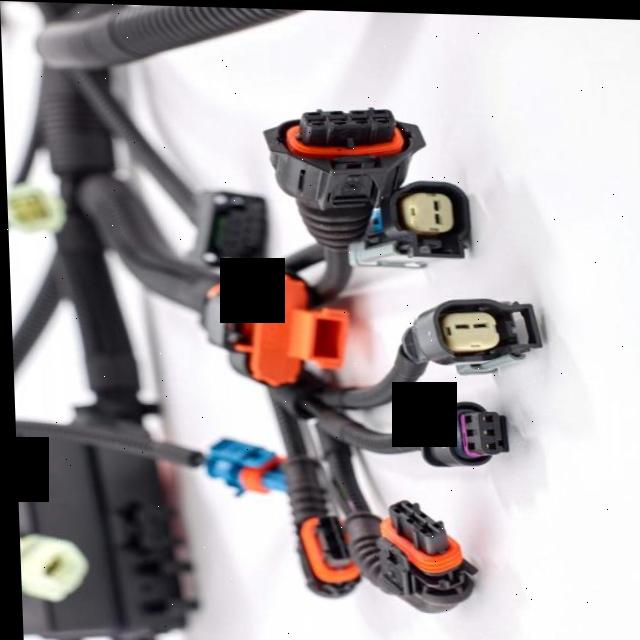connector: (200, 264, 350, 384), (264, 105, 427, 215), (397, 292, 544, 375), (348, 175, 474, 268), (374, 496, 474, 610), (292, 511, 359, 597), (197, 433, 287, 497)
